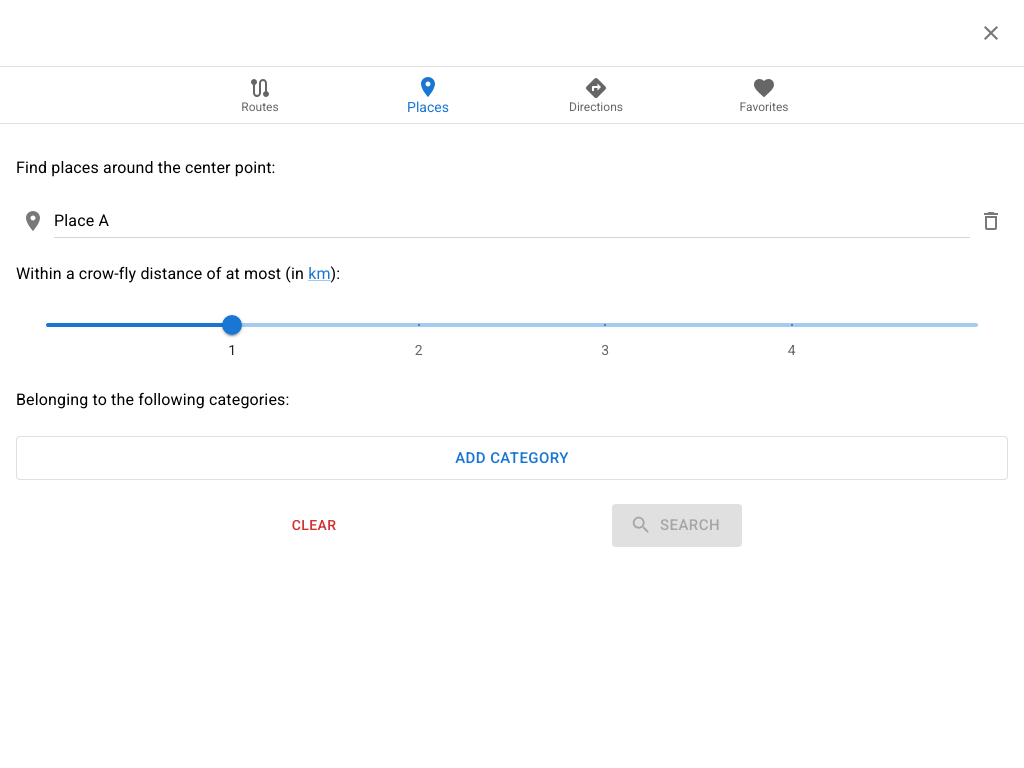
Test case: <SearchPlacesPanel /> › center box › should remove added location upon clicking on the Remove
Click the button named "Remove point".
click(991, 221)  # box [974,204,1008,238]
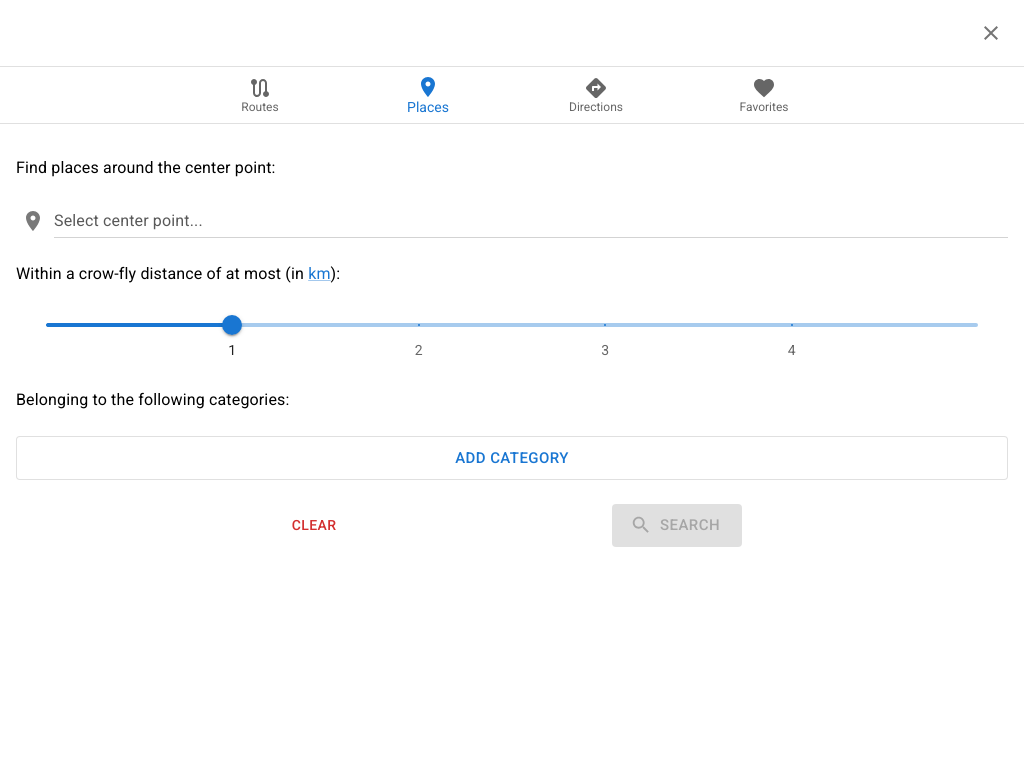
Expected: the text "Select center point..." is shown, [54,208,203,232]
